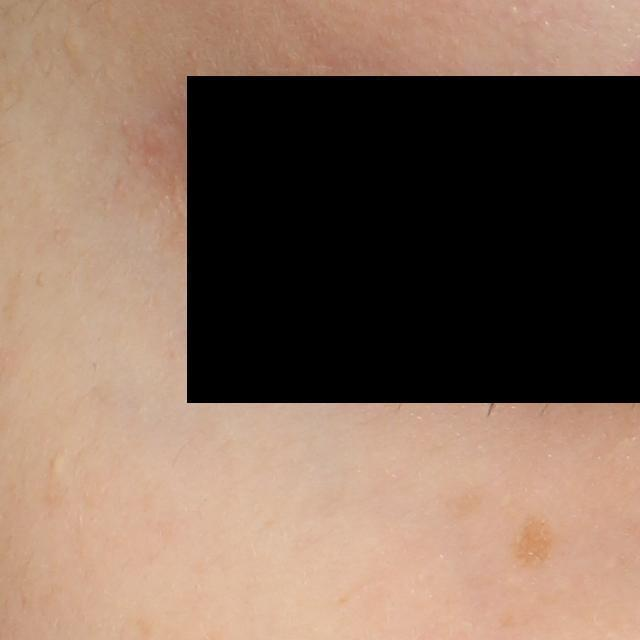comedo: (48, 453, 65, 475)
melasma: (510, 512, 560, 573)
